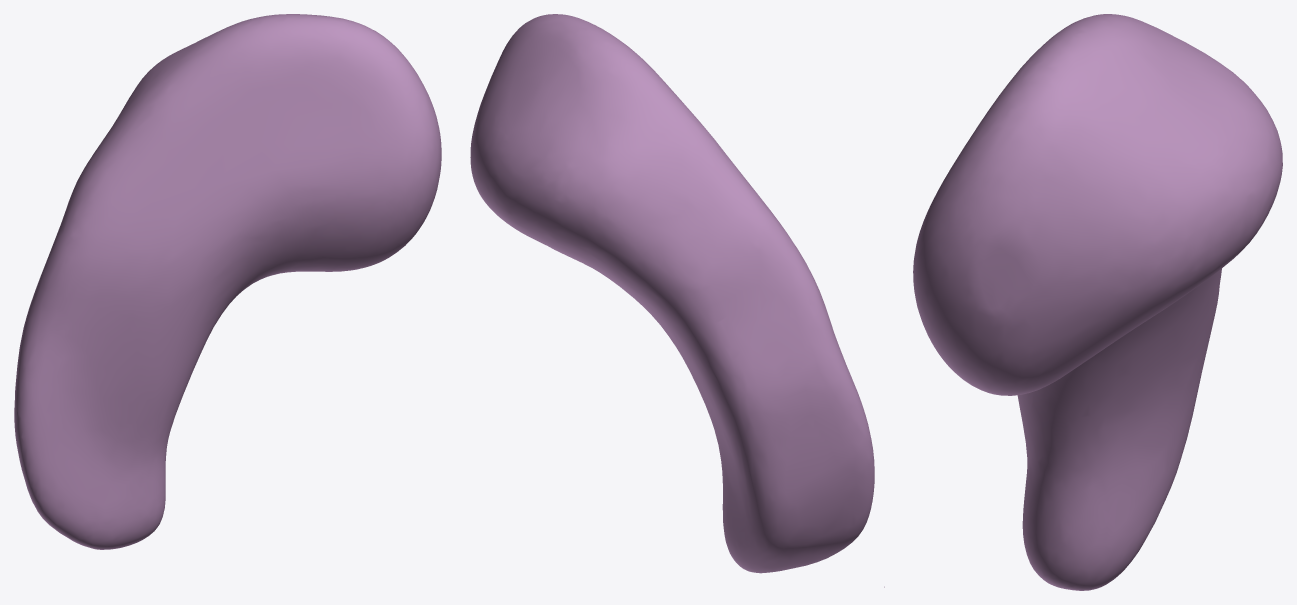
3 views of the same model, side by side, from view 1: azimuth 30°, elevation 25°; view 2: azimuth 150°, elevation 25°; view 3: azimuth 270°, elevation 25° (orthographic). The views are drawn at different scales.
Parts seen in each view (by area): view 1: 右侧下半月小叶; view 2: 右侧下半月小叶; view 3: 右侧下半月小叶.
Part boxes in pixels (x1,y1,x2,y2): 右侧下半月小叶: [14, 14, 441, 549]; 右侧下半月小叶: [470, 14, 884, 587]; 右侧下半月小叶: [913, 14, 1282, 590].
Bounding box in the file's own units: 0.07 × 0.0858 × 0.0421.
